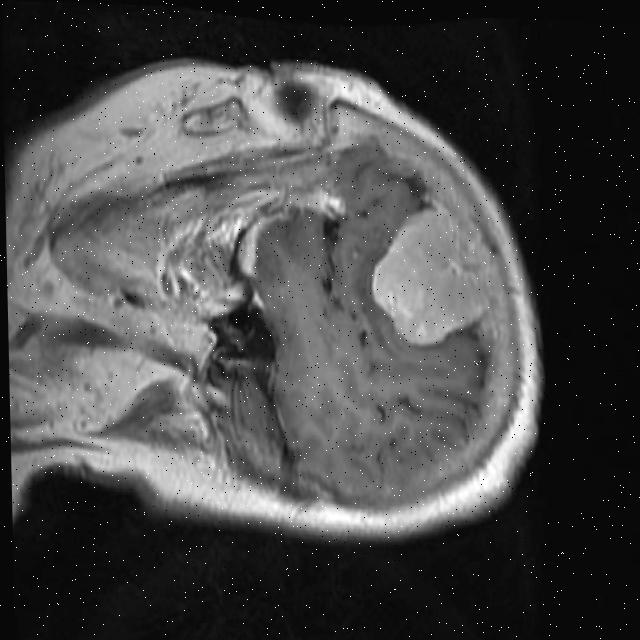Meningioma: (369, 203, 486, 353)
